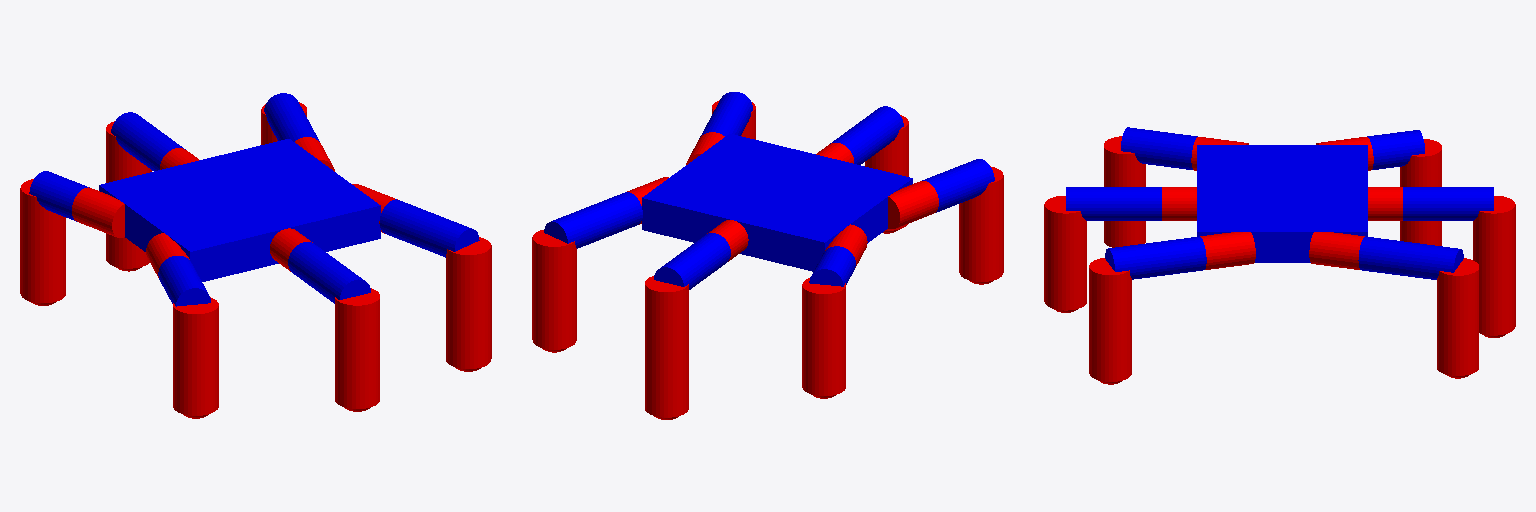
--- Facts derived from the render (not from the file) ---
Views: 3 orthographic renders of the robot side by side, from view 1: azimuth 30°, elevation 25°; view 2: azimuth 150°, elevation 25°; view 3: azimuth 270°, elevation 25°.
Model pexod with 19 links and 18 joints (18 revolute), rooted at base_link, posed all joints at 0.
Visible links, largest first — view 1: base_link, leg_3_3, leg_5_3, leg_4_3, leg_0_3, leg_3_2, leg_4_2, leg_1_3, leg_1_2, leg_0_1, leg_5_2, leg_2_2 (+3 smaller); view 2: base_link, leg_1_3, leg_2_3, leg_0_3, leg_5_3, leg_2_2, leg_1_2, leg_4_2, leg_5_2, leg_5_1, leg_3_2, leg_4_3 (+3 smaller); view 3: base_link, leg_1_3, leg_3_3, leg_2_3, leg_4_3, leg_2_2, leg_3_2, leg_4_2, leg_1_2, leg_5_3, leg_0_3, leg_5_2 (+5 smaller).
Link boxes in pixels (<box>): base_link: <box>99,139,380,281</box>; leg_3_3: <box>446,237,491,371</box>; leg_5_3: <box>173,297,218,418</box>; leg_4_3: <box>335,288,379,411</box>; leg_0_3: <box>20,179,65,305</box>; leg_3_2: <box>380,199,479,257</box>; leg_4_2: <box>288,242,370,303</box>; leg_1_3: <box>106,121,151,271</box>; leg_1_2: <box>111,112,185,170</box>; leg_0_1: <box>72,187,124,237</box>; leg_5_2: <box>158,256,210,306</box>; leg_2_2: <box>264,93,319,141</box>; base_link: <box>642,134,912,271</box>; leg_1_3: <box>645,276,688,419</box>; leg_2_3: <box>532,230,576,352</box>; leg_0_3: <box>802,278,845,398</box>; leg_5_3: <box>959,166,1003,284</box>; leg_2_2: <box>544,192,642,248</box>; leg_1_2: <box>654,233,730,289</box>; leg_4_2: <box>830,106,903,164</box>; leg_5_2: <box>922,159,994,212</box>; leg_5_1: <box>888,181,938,228</box>; leg_3_2: <box>699,92,752,138</box>; leg_4_3: <box>865,115,908,233</box>; base_link: <box>1197,145,1367,262</box>; leg_1_3: <box>1473,196,1515,337</box>; leg_3_3: <box>1089,258,1131,384</box>; leg_2_3: <box>1437,258,1478,378</box>; leg_4_3: <box>1044,196,1086,312</box>; leg_2_2: <box>1358,236,1463,279</box>; leg_3_2: <box>1105,236,1206,279</box>; leg_4_2: <box>1066,187,1161,220</box>; leg_1_2: <box>1403,187,1493,220</box>; leg_5_3: <box>1104,136,1145,247</box>; leg_0_3: <box>1400,139,1441,245</box>; leg_5_2: <box>1121,127,1197,169</box>.
Bounding box of the posed robot: 0.3851 × 0.5488 × 0.1894 m (x, y, z).
Geometry: primitives only (box / cylinder / sphere), no mesh files.

robot.urdf — pexod:
<?xml version="1.0" ?>
<!-- =================================================================================== -->
<!-- |    This document was autogenerated by xacro from pexod.xacro                    | -->
<!-- |    EDITING THIS FILE BY HAND IS NOT RECOMMENDED                                 | -->
<!-- =================================================================================== -->
<robot name="pexod" xmlns:xacro="http://www.ros.org/wiki/xacro">
  <!-- <xacro:include filename="$(find pexod_description)/urdf/pexod_control.xacro" /> -->
  <!-- MATERIALS -->
  <material name="Blue">
    <color rgba="0 0 1 1"/>
  </material>
  <material name="Red">
    <color rgba="1 0 0 1"/>
  </material>
  <material name="Green">
    <color rgba="0 1 0 1"/>
  </material>
  <material name="Yellow">
    <color rgba="1 1 0 1"/>
  </material>
  <material name="LightGrey">
    <color rgba="0.6 0.6 0.6 1.0"/>
  </material>
  <!-- END OF MATERIALS -->
  <!-- XACRO MACROS FOR VISUALS AND COLLISIONS -->
  <!-- END OF XACRO MACROS -->
  <!-- TORSO -->
  <link name="base_link">
    <visual>
      <origin rpy="0 0 0" xyz="0 0 0"/>
      <geometry>
        <box size="0.24 0.2 0.04"/>
      </geometry>
      <material name="Blue"/>
    </visual>
    <collision>
      <origin rpy="0 0 0" xyz="0 0 0"/>
      <geometry>
        <box size="0.24 0.2 0.04"/>
      </geometry>
    </collision>
    <inertial>
      <!-- CENTER OF MASS -->
      <origin rpy="0 0 0" xyz="0 0 0"/>
      <mass value="1.031"/>
      <!-- box inertia: 1/12*m(y^2+z^2), ... -->
      <inertia ixx="0.00357413333333" ixy="0" ixz="0" iyy="0.00508626666667" iyz="0" izz="0.00838546666667"/>
    </inertial>
  </link>
  <!-- XACRO MACRO FOR LEGS LINKS/JOINTS -->
  <!-- END OF LEG LINKS/JOINTS -->
  <joint name="body_leg_2" type="revolute">
    <parent link="base_link"/>
    <child link="leg_2_1"/>
    <limit effort="30.0" lower="-1.57079632679" upper="1.57079632679" velocity="7.0"/>
    <origin rpy="0 0 -0.3" xyz="0.11 0.04 0"/>
    <!-- <xacro:if value="${index == 5 or index == 4 or index == 3}">
                <axis xyz="0 0 1"/>
            </xacro:if>
            <xacro:if value="${index == 2 or index == 1 or index == 0}"> -->
    <axis xyz="0 0 1"/>
    <!-- </xacro:if> -->
    <dynamics damping="0.0"/>
  </joint>
  <link name="leg_2_1">
    <visual>
      <origin rpy="1.57079632679 0 0" xyz="0.01 0.03 0"/>
      <geometry>
        <cylinder length="0.06" radius="0.02"/>
      </geometry>
      <material name="Red"/>
    </visual>
    <collision>
      <origin rpy="1.57079632679 0 0" xyz="0.01 0.03 0"/>
      <geometry>
        <box size="0.02 0.02 0.06"/>
      </geometry>
    </collision>
    <inertial>
      <!-- CENTER OF MASS -->
      <origin rpy="1.57079632679 0 0" xyz="0.01 0.03 0"/>
      <mass value="0.02"/>
      <!-- box inertia: 1/12*m(y^2+z^2), ... -->
      <inertia ixx="6.66666666667e-06" ixy="0" ixz="0" iyy="6.66666666667e-06" iyz="0" izz="1.33333333333e-06"/>
    </inertial>
  </link>
  <joint name="leg_2_1_2" type="revolute">
    <parent link="leg_2_1"/>
    <child link="leg_2_2"/>
    <limit effort="30.0" lower="-0.78539816339" upper="0.78539816339" velocity="7.0"/>
    <origin rpy="0 0 0" xyz="0 0.06 0"/>
    <axis xyz="1 0 0"/>
    <dynamics damping="0.0"/>
  </joint>
  <link name="leg_2_2">
    <visual>
      <origin rpy="1.57079632679 0 0" xyz="0.01 0.058027664827 0"/>
      <geometry>
        <cylinder length="0.116055329654" radius="0.02"/>
      </geometry>
      <material name="Blue"/>
    </visual>
    <collision>
      <origin rpy="1.57079632679 0 0" xyz="0.01 0.058027664827 0"/>
      <geometry>
        <box size="0.02 0.02 0.116055329654"/>
      </geometry>
    </collision>
    <inertial>
      <!-- CENTER OF MASS -->
      <origin rpy="1.57079632679 0 0" xyz="0.01 0.058027664827 0"/>
      <mass value="0.184"/>
      <!-- box inertia: 1/12*m(y^2+z^2), ... -->
      <inertia ixx="0.00021265553963" ixy="0" ixz="0" iyy="0.00021265553963" iyz="0" izz="1.22666666667e-05"/>
    </inertial>
  </link>
  <joint name="leg_2_2_3" type="revolute">
    <parent link="leg_2_2"/>
    <child link="leg_2_3"/>
    <limit effort="30.0" lower="-0.78539816339" upper="0.78539816339" velocity="7.0"/>
    <origin rpy="-1.57079632679 0 0" xyz="0 0.116055329654 0"/>
    <axis xyz="-1 0 0"/>
    <dynamics damping="0.0"/>
  </joint>
  <link name="leg_2_3">
    <visual>
      <origin rpy="1.57079632679 0 0" xyz="0.0125 0.06444988616 0"/>
      <geometry>
        <cylinder length="0.12889977232" radius="0.025"/>
      </geometry>
      <material name="Red"/>
    </visual>
    <visual>
      <origin rpy="1.57079632679 0 0" xyz="0.0125 0.11639977232 0"/>
      <geometry>
        <sphere radius="0.025"/>
      </geometry>
      <material name="Red"/>
    </visual>
    <collision>
      <origin rpy="1.57079632679 0 0" xyz="0.0125 0.06444988616 0"/>
      <geometry>
        <box size="0.025 0.025 0.12889977232"/>
      </geometry>
    </collision>
    <collision>
      <origin rpy="1.57079632679 0 0" xyz="0.0125 0.11639977232 0"/>
      <geometry>
        <sphere radius="0.025"/>
      </geometry>
      <material name="Red"/>
    </collision>
    <inertial>
      <!-- CENTER OF MASS -->
      <origin rpy="1.57079632679 0 0" xyz="0.0125 0.06444988616 0"/>
      <mass value="0.04"/>
      <!-- box inertia: 1/12*m(y^2+z^2), ... -->
      <inertia ixx="5.74671710138e-05" ixy="0" ixz="0" iyy="5.74671710138e-05" iyz="0" izz="4.16666666667e-06"/>
    </inertial>
  </link>
  <joint name="body_leg_3" type="revolute">
    <parent link="base_link"/>
    <child link="leg_3_1"/>
    <limit effort="30.0" lower="-1.57079632679" upper="1.57079632679" velocity="7.0"/>
    <origin rpy="0 0 0.3" xyz="0.11 -0.04 0"/>
    <!-- <xacro:if value="${index == 5 or index == 4 or index == 3}">
                <axis xyz="0 0 1"/>
            </xacro:if>
            <xacro:if value="${index == 2 or index == 1 or index == 0}"> -->
    <axis xyz="0 0 1"/>
    <!-- </xacro:if> -->
    <dynamics damping="0.0"/>
  </joint>
  <link name="leg_3_1">
    <visual>
      <origin rpy="1.57079632679 0 0" xyz="0.01 -0.03 0"/>
      <geometry>
        <cylinder length="0.06" radius="0.02"/>
      </geometry>
      <material name="Red"/>
    </visual>
    <collision>
      <origin rpy="1.57079632679 0 0" xyz="0.01 -0.03 0"/>
      <geometry>
        <box size="0.02 0.02 0.06"/>
      </geometry>
    </collision>
    <inertial>
      <!-- CENTER OF MASS -->
      <origin rpy="1.57079632679 0 0" xyz="0.01 -0.03 0"/>
      <mass value="0.02"/>
      <!-- box inertia: 1/12*m(y^2+z^2), ... -->
      <inertia ixx="6.66666666667e-06" ixy="0" ixz="0" iyy="6.66666666667e-06" iyz="0" izz="1.33333333333e-06"/>
    </inertial>
  </link>
  <joint name="leg_3_1_2" type="revolute">
    <parent link="leg_3_1"/>
    <child link="leg_3_2"/>
    <limit effort="30.0" lower="-0.78539816339" upper="0.78539816339" velocity="7.0"/>
    <origin rpy="0 0 0" xyz="0 -0.06 0"/>
    <axis xyz="-1 0 0"/>
    <dynamics damping="0.0"/>
  </joint>
  <link name="leg_3_2">
    <visual>
      <origin rpy="1.57079632679 0 0" xyz="0.01 -0.0558036362525 0"/>
      <geometry>
        <cylinder length="0.111607272505" radius="0.02"/>
      </geometry>
      <material name="Blue"/>
    </visual>
    <collision>
      <origin rpy="1.57079632679 0 0" xyz="0.01 -0.0558036362525 0"/>
      <geometry>
        <box size="0.02 0.02 0.111607272505"/>
      </geometry>
    </collision>
    <inertial>
      <!-- CENTER OF MASS -->
      <origin rpy="1.57079632679 0 0" xyz="0.01 -0.0558036362525 0"/>
      <mass value="0.184"/>
      <!-- box inertia: 1/12*m(y^2+z^2), ... -->
      <inertia ixx="0.000197128143565" ixy="0" ixz="0" iyy="0.000197128143565" iyz="0" izz="1.22666666667e-05"/>
    </inertial>
  </link>
  <joint name="leg_3_2_3" type="revolute">
    <parent link="leg_3_2"/>
    <child link="leg_3_3"/>
    <limit effort="30.0" lower="-0.78539816339" upper="0.78539816339" velocity="7.0"/>
    <origin rpy="1.57079632679 0 0" xyz="0 -0.111607272505 0"/>
    <axis xyz="1 0 0"/>
    <dynamics damping="0.0"/>
  </joint>
  <link name="leg_3_3">
    <visual>
      <origin rpy="1.57079632679 0 0" xyz="0.0125 -0.0686343873605 0"/>
      <geometry>
        <cylinder length="0.137268774721" radius="0.025"/>
      </geometry>
      <material name="Red"/>
    </visual>
    <visual>
      <origin rpy="1.57079632679 0 0" xyz="0.0125 -0.124768774721 0"/>
      <geometry>
        <sphere radius="0.025"/>
      </geometry>
      <material name="Red"/>
    </visual>
    <collision>
      <origin rpy="1.57079632679 0 0" xyz="0.0125 -0.0686343873605 0"/>
      <geometry>
        <box size="0.025 0.025 0.137268774721"/>
      </geometry>
    </collision>
    <collision>
      <origin rpy="1.57079632679 0 0" xyz="0.0125 -0.124768774721 0"/>
      <geometry>
        <sphere radius="0.025"/>
      </geometry>
      <material name="Red"/>
    </collision>
    <inertial>
      <!-- CENTER OF MASS -->
      <origin rpy="1.57079632679 0 0" xyz="0.0125 -0.0686343873605 0"/>
      <mass value="0.04"/>
      <!-- box inertia: 1/12*m(y^2+z^2), ... -->
      <inertia ixx="6.4892388378e-05" ixy="0" ixz="0" iyy="6.4892388378e-05" iyz="0" izz="4.16666666667e-06"/>
    </inertial>
  </link>
  <joint name="body_leg_0" type="revolute">
    <parent link="base_link"/>
    <child link="leg_0_1"/>
    <limit effort="30.0" lower="-1.57079632679" upper="1.57079632679" velocity="7.0"/>
    <origin rpy="0 0 0.3" xyz="-0.13 0.04 0"/>
    <!-- <xacro:if value="${index == 5 or index == 4 or index == 3}">
                <axis xyz="0 0 1"/>
            </xacro:if>
            <xacro:if value="${index == 2 or index == 1 or index == 0}"> -->
    <axis xyz="0 0 1"/>
    <!-- </xacro:if> -->
    <dynamics damping="0.0"/>
  </joint>
  <link name="leg_0_1">
    <visual>
      <origin rpy="1.57079632679 0 0" xyz="0.01 0.03 0"/>
      <geometry>
        <cylinder length="0.06" radius="0.02"/>
      </geometry>
      <material name="Red"/>
    </visual>
    <collision>
      <origin rpy="1.57079632679 0 0" xyz="0.01 0.03 0"/>
      <geometry>
        <box size="0.02 0.02 0.06"/>
      </geometry>
    </collision>
    <inertial>
      <!-- CENTER OF MASS -->
      <origin rpy="1.57079632679 0 0" xyz="0.01 0.03 0"/>
      <mass value="0.02"/>
      <!-- box inertia: 1/12*m(y^2+z^2), ... -->
      <inertia ixx="6.66666666667e-06" ixy="0" ixz="0" iyy="6.66666666667e-06" iyz="0" izz="1.33333333333e-06"/>
    </inertial>
  </link>
  <joint name="leg_0_1_2" type="revolute">
    <parent link="leg_0_1"/>
    <child link="leg_0_2"/>
    <limit effort="30.0" lower="-0.78539816339" upper="0.78539816339" velocity="7.0"/>
    <origin rpy="0 0 0" xyz="0 0.06 0"/>
    <axis xyz="1 0 0"/>
    <dynamics damping="0.0"/>
  </joint>
  <link name="leg_0_2">
    <visual>
      <origin rpy="1.57079632679 0 0" xyz="0.01 0.0315534068951 0"/>
      <geometry>
        <cylinder length="0.0631068137902" radius="0.02"/>
      </geometry>
      <material name="Blue"/>
    </visual>
    <collision>
      <origin rpy="1.57079632679 0 0" xyz="0.01 0.0315534068951 0"/>
      <geometry>
        <box size="0.02 0.02 0.0631068137902"/>
      </geometry>
    </collision>
    <inertial>
      <!-- CENTER OF MASS -->
      <origin rpy="1.57079632679 0 0" xyz="0.01 0.0315534068951 0"/>
      <mass value="0.184"/>
      <!-- box inertia: 1/12*m(y^2+z^2), ... -->
      <inertia ixx="6.71978725168e-05" ixy="0" ixz="0" iyy="6.71978725168e-05" iyz="0" izz="1.22666666667e-05"/>
    </inertial>
  </link>
  <joint name="leg_0_2_3" type="revolute">
    <parent link="leg_0_2"/>
    <child link="leg_0_3"/>
    <limit effort="30.0" lower="-0.78539816339" upper="0.78539816339" velocity="7.0"/>
    <origin rpy="-1.57079632679 0 0" xyz="0 0.0631068137902 0"/>
    <axis xyz="-1 0 0"/>
    <dynamics damping="0.0"/>
  </joint>
  <link name="leg_0_3">
    <visual>
      <origin rpy="1.57079632679 0 0" xyz="0.0125 0.063862132905 0"/>
      <geometry>
        <cylinder length="0.12772426581" radius="0.025"/>
      </geometry>
      <material name="Red"/>
    </visual>
    <visual>
      <origin rpy="1.57079632679 0 0" xyz="0.0125 0.11522426581 0"/>
      <geometry>
        <sphere radius="0.025"/>
      </geometry>
      <material name="Red"/>
    </visual>
    <collision>
      <origin rpy="1.57079632679 0 0" xyz="0.0125 0.063862132905 0"/>
      <geometry>
        <box size="0.025 0.025 0.12772426581"/>
      </geometry>
    </collision>
    <collision>
      <origin rpy="1.57079632679 0 0" xyz="0.0125 0.11522426581 0"/>
      <geometry>
        <sphere radius="0.025"/>
      </geometry>
      <material name="Red"/>
    </collision>
    <inertial>
      <!-- CENTER OF MASS -->
      <origin rpy="1.57079632679 0 0" xyz="0.0125 0.063862132905 0"/>
      <mass value="0.04"/>
      <!-- box inertia: 1/12*m(y^2+z^2), ... -->
      <inertia ixx="5.64616269223e-05" ixy="0" ixz="0" iyy="5.64616269223e-05" iyz="0" izz="4.16666666667e-06"/>
    </inertial>
  </link>
  <joint name="body_leg_5" type="revolute">
    <parent link="base_link"/>
    <child link="leg_5_1"/>
    <limit effort="30.0" lower="-1.57079632679" upper="1.57079632679" velocity="7.0"/>
    <origin rpy="0 0 -0.3" xyz="-0.13 -0.04 0"/>
    <!-- <xacro:if value="${index == 5 or index == 4 or index == 3}">
                <axis xyz="0 0 1"/>
            </xacro:if>
            <xacro:if value="${index == 2 or index == 1 or index == 0}"> -->
    <axis xyz="0 0 1"/>
    <!-- </xacro:if> -->
    <dynamics damping="0.0"/>
  </joint>
  <link name="leg_5_1">
    <visual>
      <origin rpy="1.57079632679 0 0" xyz="0.01 -0.03 0"/>
      <geometry>
        <cylinder length="0.06" radius="0.02"/>
      </geometry>
      <material name="Red"/>
    </visual>
    <collision>
      <origin rpy="1.57079632679 0 0" xyz="0.01 -0.03 0"/>
      <geometry>
        <box size="0.02 0.02 0.06"/>
      </geometry>
    </collision>
    <inertial>
      <!-- CENTER OF MASS -->
      <origin rpy="1.57079632679 0 0" xyz="0.01 -0.03 0"/>
      <mass value="0.02"/>
      <!-- box inertia: 1/12*m(y^2+z^2), ... -->
      <inertia ixx="6.66666666667e-06" ixy="0" ixz="0" iyy="6.66666666667e-06" iyz="0" izz="1.33333333333e-06"/>
    </inertial>
  </link>
  <joint name="leg_5_1_2" type="revolute">
    <parent link="leg_5_1"/>
    <child link="leg_5_2"/>
    <limit effort="30.0" lower="-0.78539816339" upper="0.78539816339" velocity="7.0"/>
    <origin rpy="0 0 0" xyz="0 -0.06 0"/>
    <axis xyz="-1 0 0"/>
    <dynamics damping="0.0"/>
  </joint>
  <link name="leg_5_2">
    <visual>
      <origin rpy="1.57079632679 0 0" xyz="0.01 -0.0432008690474 0"/>
      <geometry>
        <cylinder length="0.0864017380948" radius="0.02"/>
      </geometry>
      <material name="Blue"/>
    </visual>
    <collision>
      <origin rpy="1.57079632679 0 0" xyz="0.01 -0.0432008690474 0"/>
      <geometry>
        <box size="0.02 0.02 0.0864017380948"/>
      </geometry>
    </collision>
    <inertial>
      <!-- CENTER OF MASS -->
      <origin rpy="1.57079632679 0 0" xyz="0.01 -0.0432008690474 0"/>
      <mass value="0.184"/>
      <!-- box inertia: 1/12*m(y^2+z^2), ... -->
      <inertia ixx="0.000120600658636" ixy="0" ixz="0" iyy="0.000120600658636" iyz="0" izz="1.22666666667e-05"/>
    </inertial>
  </link>
  <joint name="leg_5_2_3" type="revolute">
    <parent link="leg_5_2"/>
    <child link="leg_5_3"/>
    <limit effort="30.0" lower="-0.78539816339" upper="0.78539816339" velocity="7.0"/>
    <origin rpy="1.57079632679 0 0" xyz="0 -0.0864017380948 0"/>
    <axis xyz="1 0 0"/>
    <dynamics damping="0.0"/>
  </joint>
  <link name="leg_5_3">
    <visual>
      <origin rpy="1.57079632679 0 0" xyz="0.0125 -0.0612082377475 0"/>
      <geometry>
        <cylinder length="0.122416475495" radius="0.025"/>
      </geometry>
      <material name="Red"/>
    </visual>
    <visual>
      <origin rpy="1.57079632679 0 0" xyz="0.0125 -0.109916475495 0"/>
      <geometry>
        <sphere radius="0.025"/>
      </geometry>
      <material name="Red"/>
    </visual>
    <collision>
      <origin rpy="1.57079632679 0 0" xyz="0.0125 -0.0612082377475 0"/>
      <geometry>
        <box size="0.025 0.025 0.122416475495"/>
      </geometry>
    </collision>
    <collision>
      <origin rpy="1.57079632679 0 0" xyz="0.0125 -0.109916475495 0"/>
      <geometry>
        <sphere radius="0.025"/>
      </geometry>
      <material name="Red"/>
    </collision>
    <inertial>
      <!-- CENTER OF MASS -->
      <origin rpy="1.57079632679 0 0" xyz="0.0125 -0.0612082377475 0"/>
      <mass value="0.04"/>
      <!-- box inertia: 1/12*m(y^2+z^2), ... -->
      <inertia ixx="5.20359782421e-05" ixy="0" ixz="0" iyy="5.20359782421e-05" iyz="0" izz="4.16666666667e-06"/>
    </inertial>
  </link>
  <joint name="body_leg_1" type="revolute">
    <parent link="base_link"/>
    <child link="leg_1_1"/>
    <limit effort="30.0" lower="-1.57079632679" upper="1.57079632679" velocity="7.0"/>
    <origin rpy="0 0 0" xyz="-0.01 0.08 0"/>
    <!-- <xacro:if value="${index == 5 or index == 4 or index == 3}">
                <axis xyz="0 0 1"/>
            </xacro:if>
            <xacro:if value="${index == 2 or index == 1 or index == 0}"> -->
    <axis xyz="0 0 1"/>
    <!-- </xacro:if> -->
    <dynamics damping="0.0"/>
  </joint>
  <link name="leg_1_1">
    <visual>
      <origin rpy="1.57079632679 0 0" xyz="0.01 0.03 0"/>
      <geometry>
        <cylinder length="0.06" radius="0.02"/>
      </geometry>
      <material name="Red"/>
    </visual>
    <collision>
      <origin rpy="1.57079632679 0 0" xyz="0.01 0.03 0"/>
      <geometry>
        <box size="0.02 0.02 0.06"/>
      </geometry>
    </collision>
    <inertial>
      <!-- CENTER OF MASS -->
      <origin rpy="1.57079632679 0 0" xyz="0.01 0.03 0"/>
      <mass value="0.02"/>
      <!-- box inertia: 1/12*m(y^2+z^2), ... -->
      <inertia ixx="6.66666666667e-06" ixy="0" ixz="0" iyy="6.66666666667e-06" iyz="0" izz="1.33333333333e-06"/>
    </inertial>
  </link>
  <joint name="leg_1_1_2" type="revolute">
    <parent link="leg_1_1"/>
    <child link="leg_1_2"/>
    <limit effort="30.0" lower="-0.78539816339" upper="0.78539816339" velocity="7.0"/>
    <origin rpy="0 0 0" xyz="0 0.06 0"/>
    <axis xyz="1 0 0"/>
    <dynamics damping="0.0"/>
  </joint>
  <link name="leg_1_2">
    <visual>
      <origin rpy="1.57079632679 0 0" xyz="0.01 0.0532023937515 0"/>
      <geometry>
        <cylinder length="0.106404787503" radius="0.02"/>
      </geometry>
      <material name="Blue"/>
    </visual>
    <collision>
      <origin rpy="1.57079632679 0 0" xyz="0.01 0.0532023937515 0"/>
      <geometry>
        <box size="0.02 0.02 0.106404787503"/>
      </geometry>
    </collision>
    <inertial>
      <!-- CENTER OF MASS -->
      <origin rpy="1.57079632679 0 0" xyz="0.01 0.0532023937515 0"/>
      <mass value="0.184"/>
      <!-- box inertia: 1/12*m(y^2+z^2), ... -->
      <inertia ixx="0.000179737008321" ixy="0" ixz="0" iyy="0.000179737008321" iyz="0" izz="1.22666666667e-05"/>
    </inertial>
  </link>
  <joint name="leg_1_2_3" type="revolute">
    <parent link="leg_1_2"/>
    <child link="leg_1_3"/>
    <limit effort="30.0" lower="-0.78539816339" upper="0.78539816339" velocity="7.0"/>
    <origin rpy="-1.57079632679 0 0" xyz="0 0.106404787503 0"/>
    <axis xyz="-1 0 0"/>
    <dynamics damping="0.0"/>
  </joint>
  <link name="leg_1_3">
    <visual>
      <origin rpy="1.57079632679 0 0" xyz="0.0125 0.0784572488225 0"/>
      <geometry>
        <cylinder length="0.156914497645" radius="0.025"/>
      </geometry>
      <material name="Red"/>
    </visual>
    <visual>
      <origin rpy="1.57079632679 0 0" xyz="0.0125 0.144414497645 0"/>
      <geometry>
        <sphere radius="0.025"/>
      </geometry>
      <material name="Red"/>
    </visual>
    <collision>
      <origin rpy="1.57079632679 0 0" xyz="0.0125 0.0784572488225 0"/>
      <geometry>
        <box size="0.025 0.025 0.156914497645"/>
      </geometry>
    </collision>
    <collision>
      <origin rpy="1.57079632679 0 0" xyz="0.0125 0.144414497645 0"/>
      <geometry>
        <sphere radius="0.025"/>
      </geometry>
      <material name="Red"/>
    </collision>
    <inertial>
      <!-- CENTER OF MASS -->
      <origin rpy="1.57079632679 0 0" xyz="0.0125 0.0784572488225 0"/>
      <mass value="0.04"/>
      <!-- box inertia: 1/12*m(y^2+z^2), ... -->
      <inertia ixx="8.41571985706e-05" ixy="0" ixz="0" iyy="8.41571985706e-05" iyz="0" izz="4.16666666667e-06"/>
    </inertial>
  </link>
  <joint name="body_leg_4" type="revolute">
    <parent link="base_link"/>
    <child link="leg_4_1"/>
    <limit effort="30.0" lower="-1.57079632679" upper="1.57079632679" velocity="7.0"/>
    <origin rpy="0 0 0" xyz="-0.01 -0.08 0"/>
    <!-- <xacro:if value="${index == 5 or index == 4 or index == 3}">
                <axis xyz="0 0 1"/>
            </xacro:if>
            <xacro:if value="${index == 2 or index == 1 or index == 0}"> -->
    <axis xyz="0 0 1"/>
    <!-- </xacro:if> -->
    <dynamics damping="0.0"/>
  </joint>
  <link name="leg_4_1">
    <visual>
      <origin rpy="1.57079632679 0 0" xyz="0.01 -0.03 0"/>
      <geometry>
        <cylinder length="0.06" radius="0.02"/>
      </geometry>
      <material name="Red"/>
    </visual>
    <collision>
      <origin rpy="1.57079632679 0 0" xyz="0.01 -0.03 0"/>
      <geometry>
        <box size="0.02 0.02 0.06"/>
      </geometry>
    </collision>
    <inertial>
      <!-- CENTER OF MASS -->
      <origin rpy="1.57079632679 0 0" xyz="0.01 -0.03 0"/>
      <mass value="0.02"/>
      <!-- box inertia: 1/12*m(y^2+z^2), ... -->
      <inertia ixx="6.66666666667e-06" ixy="0" ixz="0" iyy="6.66666666667e-06" iyz="0" izz="1.33333333333e-06"/>
    </inertial>
  </link>
  <joint name="leg_4_1_2" type="revolute">
    <parent link="leg_4_1"/>
    <child link="leg_4_2"/>
    <limit effort="30.0" lower="-0.78539816339" upper="0.78539816339" velocity="7.0"/>
    <origin rpy="0 0 0" xyz="0 -0.06 0"/>
    <axis xyz="-1 0 0"/>
    <dynamics damping="0.0"/>
  </joint>
  <link name="leg_4_2">
    <visual>
      <origin rpy="1.57079632679 0 0" xyz="0.01 -0.056197936986 0"/>
      <geometry>
        <cylinder length="0.112395873972" radius="0.02"/>
      </geometry>
      <material name="Blue"/>
    </visual>
    <collision>
      <origin rpy="1.57079632679 0 0" xyz="0.01 -0.056197936986 0"/>
      <geometry>
        <box size="0.02 0.02 0.112395873972"/>
      </geometry>
    </collision>
    <inertial>
      <!-- CENTER OF MASS -->
      <origin rpy="1.57079632679 0 0" xyz="0.01 -0.056197936986 0"/>
      <mass value="0.184"/>
      <!-- box inertia: 1/12*m(y^2+z^2), ... -->
      <inertia ixx="0.000199836764784" ixy="0" ixz="0" iyy="0.000199836764784" iyz="0" izz="1.22666666667e-05"/>
    </inertial>
  </link>
  <joint name="leg_4_2_3" type="revolute">
    <parent link="leg_4_2"/>
    <child link="leg_4_3"/>
    <limit effort="30.0" lower="-0.78539816339" upper="0.78539816339" velocity="7.0"/>
    <origin rpy="1.57079632679 0 0" xyz="0 -0.112395873972 0"/>
    <axis xyz="1 0 0"/>
    <dynamics damping="0.0"/>
  </joint>
  <link name="leg_4_3">
    <visual>
      <origin rpy="1.57079632679 0 0" xyz="0.0125 -0.062320983242 0"/>
      <geometry>
        <cylinder length="0.124641966484" radius="0.025"/>
      </geometry>
      <material name="Red"/>
    </visual>
    <visual>
      <origin rpy="1.57079632679 0 0" xyz="0.0125 -0.112141966484 0"/>
      <geometry>
        <sphere radius="0.025"/>
      </geometry>
      <material name="Red"/>
    </visual>
    <collision>
      <origin rpy="1.57079632679 0 0" xyz="0.0125 -0.062320983242 0"/>
      <geometry>
        <box size="0.025 0.025 0.124641966484"/>
      </geometry>
    </collision>
    <collision>
      <origin rpy="1.57079632679 0 0" xyz="0.0125 -0.112141966484 0"/>
      <geometry>
        <sphere radius="0.025"/>
      </geometry>
      <material name="Red"/>
    </collision>
    <inertial>
      <!-- CENTER OF MASS -->
      <origin rpy="1.57079632679 0 0" xyz="0.0125 -0.062320983242 0"/>
      <mass value="0.04"/>
      <!-- box inertia: 1/12*m(y^2+z^2), ... -->
      <inertia ixx="5.38687326967e-05" ixy="0" ixz="0" iyy="5.38687326967e-05" iyz="0" izz="4.16666666667e-06"/>
    </inertial>
  </link>
  <!-- END OF LEG LINKS/JOINTS -->
</robot>
